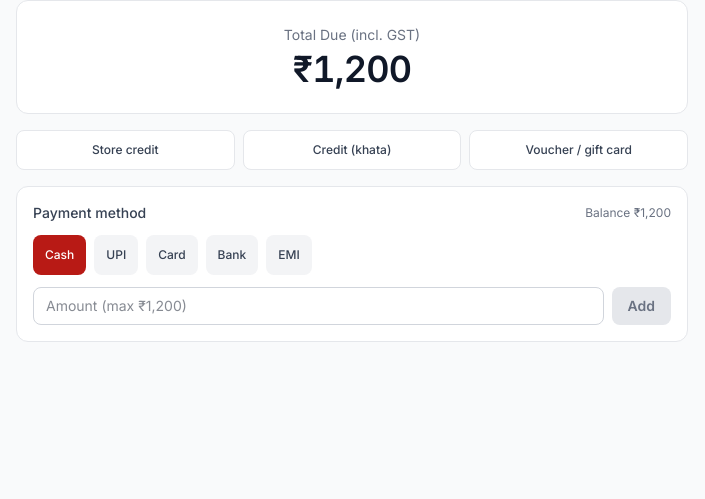
Test: POS store-credit tender (cart mode) › an unreadable balance is fail-CLOSED: shows no credit, Apply disabled
Click the button "Store credit" at x=125, y=150, box top-left (16, 130), bottom-right (235, 170)
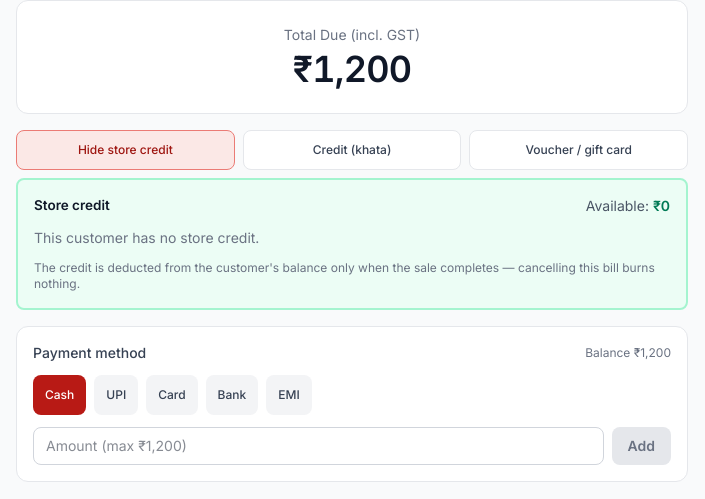
Expected: the text "This customer has no store credit." is shown, top-left (34, 229), bottom-right (259, 246)
